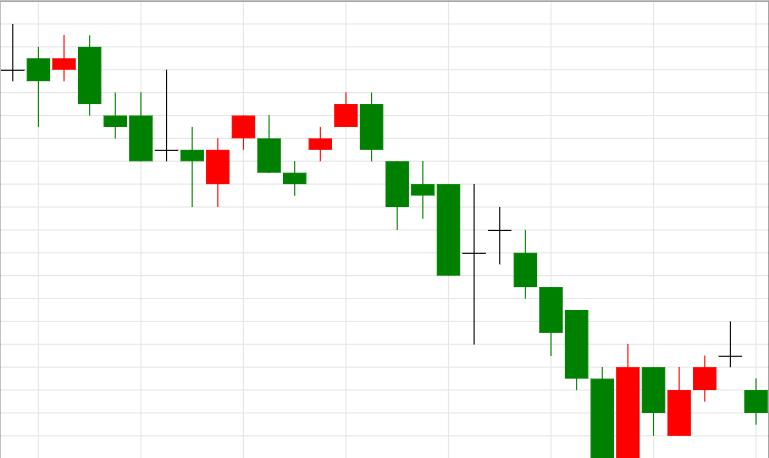bearish_engulfing_fall: (283, 91, 384, 196)
bullish_engulfing_rise: (488, 206, 639, 458)
